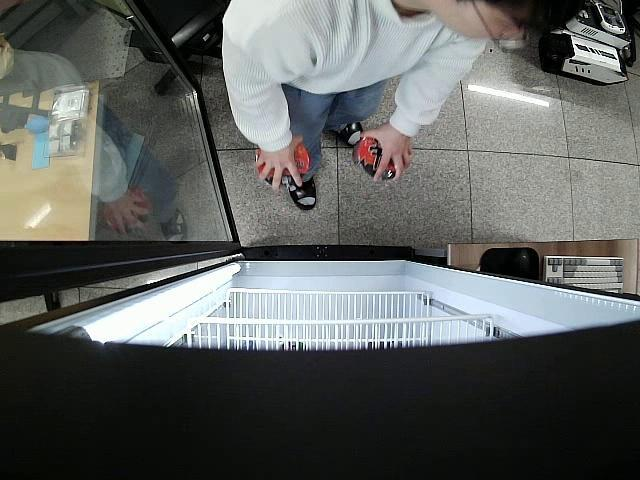01_ShinRamen_L: (256, 146, 310, 188), (356, 134, 404, 180)
